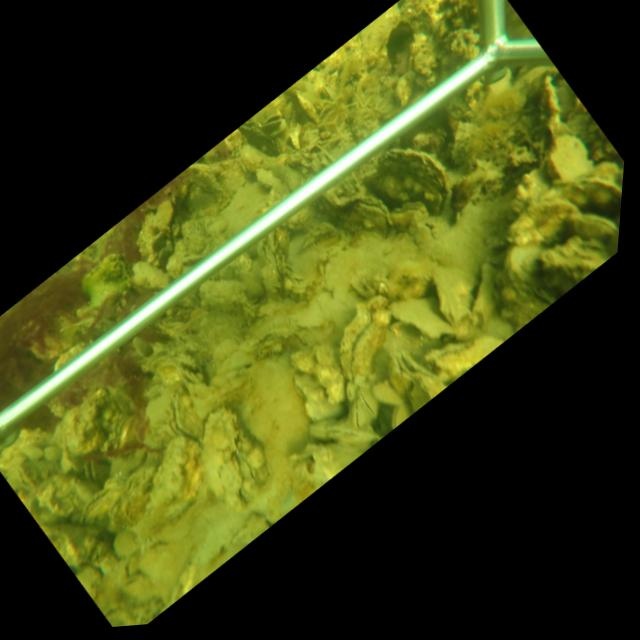Oyster-Closed: (381, 146, 453, 211), (337, 303, 381, 382), (167, 386, 204, 441), (348, 195, 393, 239), (309, 419, 382, 443), (264, 235, 287, 291), (573, 210, 619, 237), (400, 350, 438, 380), (370, 379, 402, 407), (357, 384, 379, 420), (296, 90, 318, 122), (348, 401, 367, 427), (391, 402, 410, 426)
Oyster-Indeterminate: (198, 404, 265, 510), (135, 435, 200, 531), (388, 295, 488, 341), (432, 265, 478, 325), (198, 278, 257, 324), (546, 132, 594, 184)
Oyster-Open: (259, 112, 284, 130), (83, 460, 99, 483)
